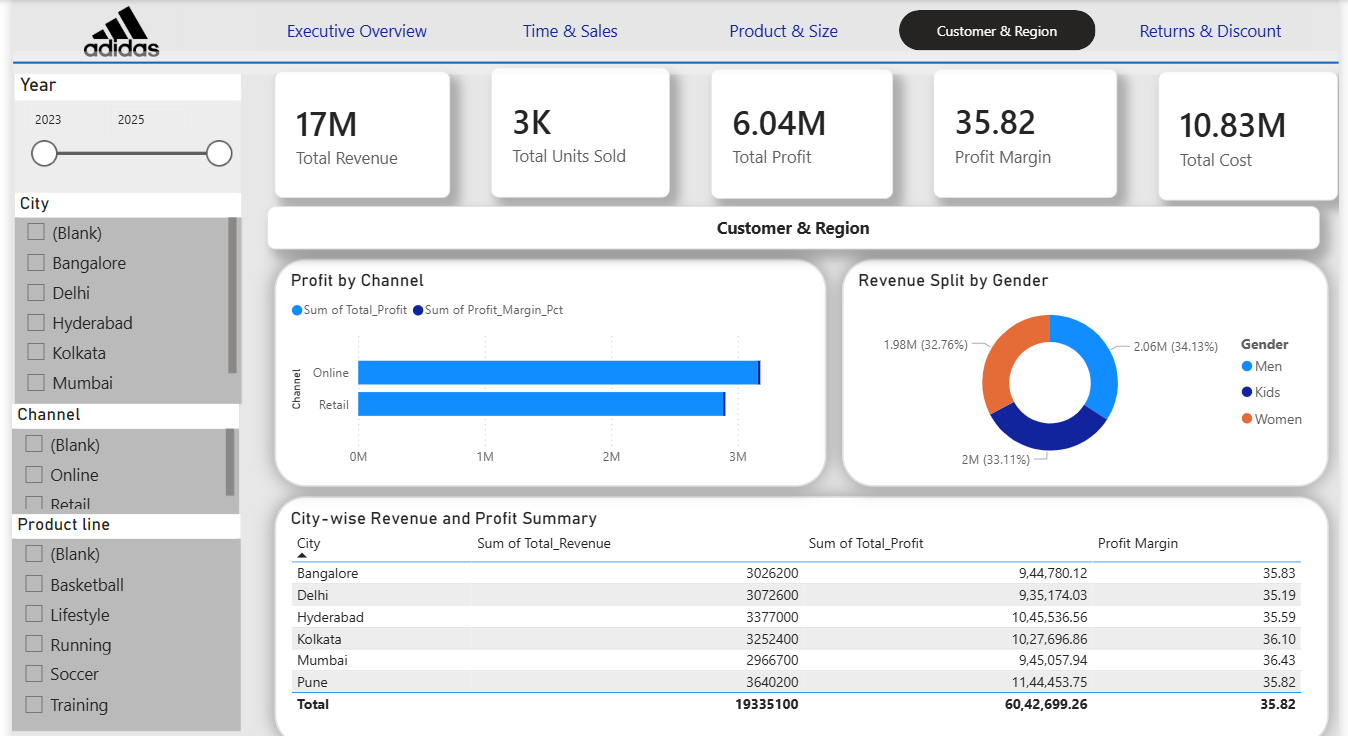

The page's visual inventory and layout, read from the dashboard file:
{"tool":"powerbi","page":{"name":"Customer & Region","canvas":[1280,720],"ordinal":3},"visuals":[{"type":"tableEx","title":"City-wise Revenue and Profit Summary","fields":{"Values":["Sales_Data.City","Sum(Sales_Data.Total_Revenue)","Sum(Sales_Data.Total_Profit)","_measures.Profit Margin"]},"box":[253.1,479.4,1017.4,240.9],"z":0},{"type":"barChart","title":"Profit by Channel","fields":{"Y":["Sum(Sales_Data.Total_Profit)","Sum(Sales_Data.Profit_Margin_Pct)"],"Category":["Sales_Data.Channel"]},"box":[253.1,249.5,533.2,220.1],"z":1000},{"type":"donutChart","title":"Revenue Split by Gender","fields":{"Y":["Sum(Sales_Data.Total_Profit)"],"Category":["Sales_Data.Gender"]},"box":[801,249.5,469.6,220.1],"z":2000},{"type":"cardVisual","fields":{"Data":["_measures.Total Revenue"]},"box":[253.1,68.5,170,122.3],"z":3000},{"type":"cardVisual","fields":{"Data":["_measures.Total Cost"]},"box":[1106.4,68.5,173.6,124.7],"z":4000},{"type":"cardVisual","fields":{"Data":["_measures.Total Units Sold"]},"box":[462.5,64.8,172.4,126],"z":5000},{"type":"cardVisual","fields":{"Data":["_measures.Profit Margin %"]},"box":[889.7,66,177.3,124.7],"z":6000},{"type":"cardVisual","fields":{"Data":["_measures.Total Profit"]},"box":[674.2,66,176.1,126],"z":7000},{"type":"image","box":[45.2,4.9,119.8,50.1],"z":8000},{"type":"pageNavigator","box":[237.2,9.8,1016.2,39.1],"z":9000},{"type":"textbox","box":[245.8,199.3,1016.2,41.6],"z":10000},{"type":"shape","box":[0.9,48.9,1279.1,22],"z":11000},{"type":"slicer","title":"Year","fields":{"Values":["Sales_Data.Year"]},"box":[2.4,71.2,218.4,119.4],"z":12000},{"type":"slicer","title":"City","fields":{"Values":["Sales_Data.City"]},"box":[2.4,185.8,219.6,203.9],"z":13000},{"type":"slicer","title":"Product line","fields":{"Values":["Sales_Data.Product_Line"]},"box":[0,495.8,220.8,209.9],"z":14000},{"type":"slicer","title":"Channel","fields":{"Values":["Sales_Data.Channel"]},"box":[0,389.7,219.6,106.2],"z":15000}]}

Visuals, with their boxes on the page's 1280x720 design canvas (x1, y1, x2, y2). These are canvas units, not pixel positions in the 1348x736 screenshot, which may show the page scaled, cropped or inside an application window:
"City-wise Revenue and Profit Summary" tableEx: [left=253, top=479, right=1270, bottom=720]
"Profit by Channel" barChart: [left=253, top=250, right=786, bottom=470]
"Revenue Split by Gender" donutChart: [left=801, top=250, right=1271, bottom=470]
cardVisual - _measures.Total Revenue: [left=253, top=68, right=423, bottom=191]
cardVisual - _measures.Total Cost: [left=1106, top=68, right=1280, bottom=193]
cardVisual - _measures.Total Units Sold: [left=462, top=65, right=635, bottom=191]
cardVisual - _measures.Profit Margin %: [left=890, top=66, right=1067, bottom=191]
cardVisual - _measures.Total Profit: [left=674, top=66, right=850, bottom=192]
image: [left=45, top=5, right=165, bottom=55]
pageNavigator: [left=237, top=10, right=1253, bottom=49]
textbox: [left=246, top=199, right=1262, bottom=241]
shape: [left=1, top=49, right=1280, bottom=71]
"Year" slicer: [left=2, top=71, right=221, bottom=191]
"City" slicer: [left=2, top=186, right=222, bottom=390]
"Product line" slicer: [left=0, top=496, right=221, bottom=706]
"Channel" slicer: [left=0, top=390, right=220, bottom=496]
